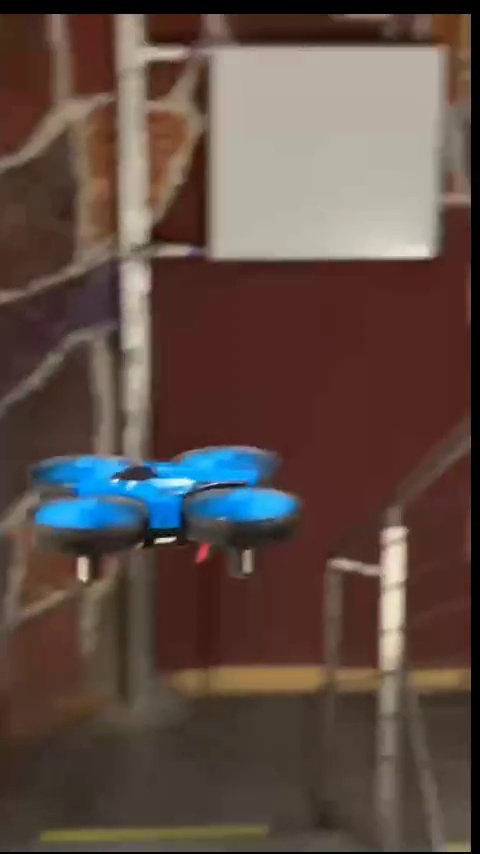drone: (32, 452, 311, 592)
